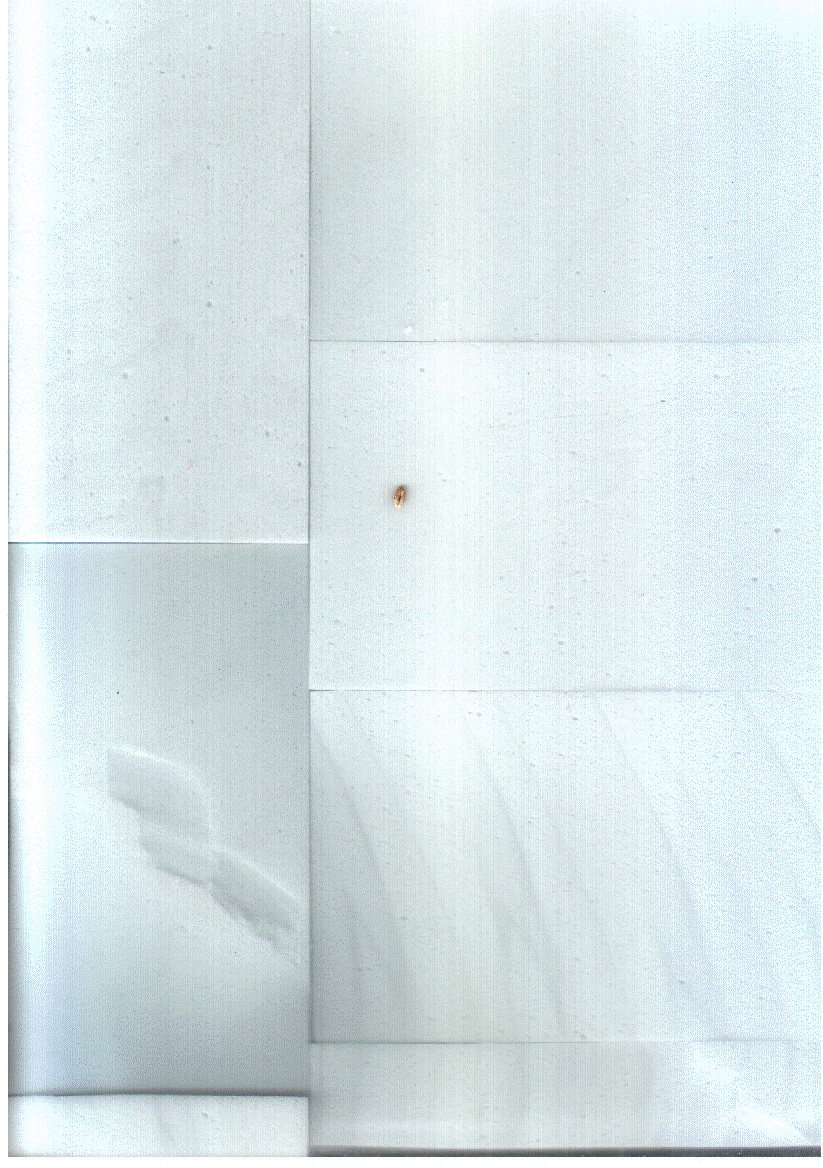grains: (382, 470, 424, 526)
